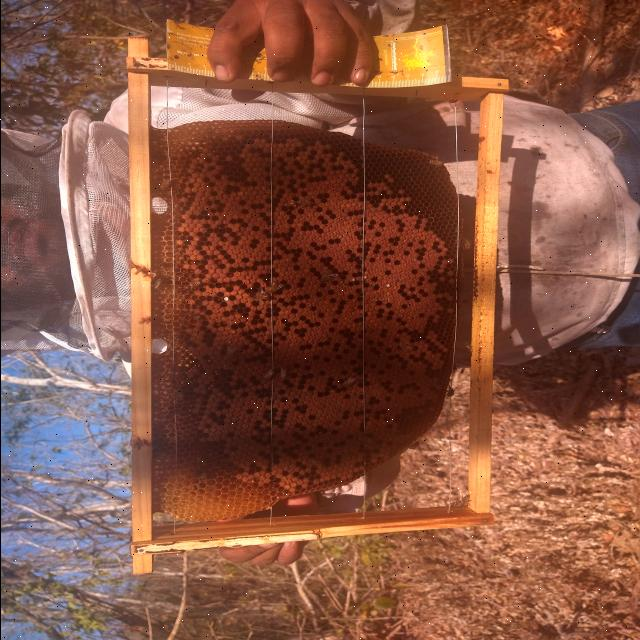cria: (175, 135, 459, 494)
marco: (150, 80, 481, 530)
